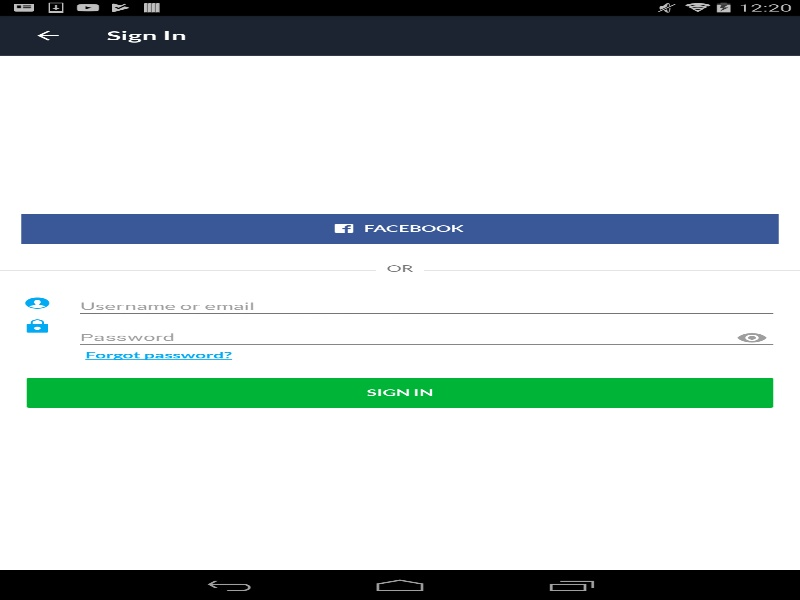Button: (21, 374, 778, 411), (10, 15, 85, 55), (725, 330, 778, 345)
Input: (74, 325, 778, 350), (74, 294, 778, 318)
